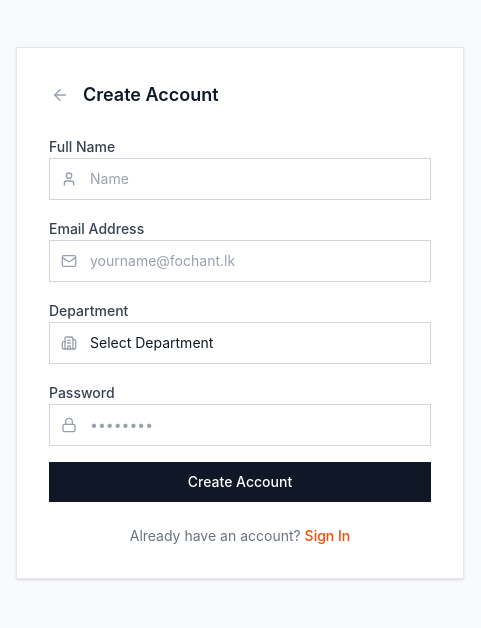
it: RegisterPage › validates organization email
In the field with placeholder "yourname@fochant.lk": (240, 261) [49, 240, 431, 282], type "test@gmail.com"
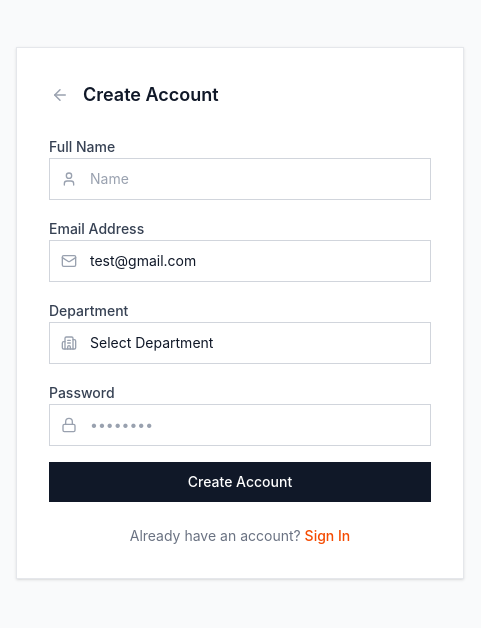
In the field with placeholder "Name": (240, 179) [49, 158, 431, 200], type "John Doe"
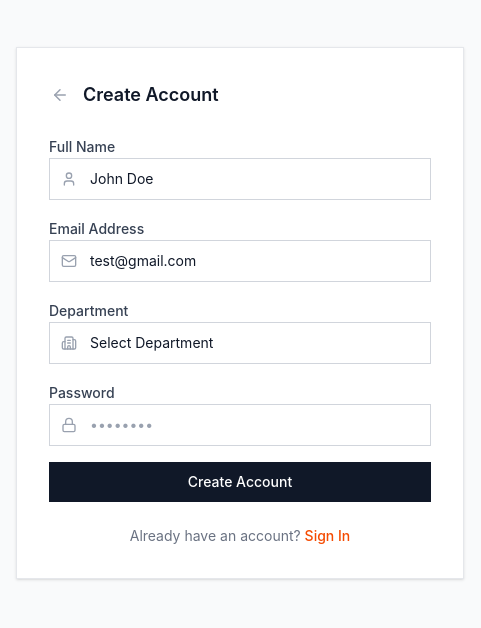
Select "Design" in the dropdown: (240, 343) [49, 322, 431, 364]
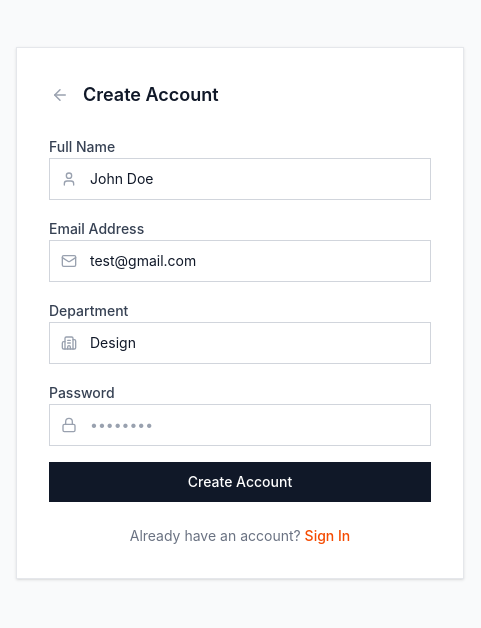
In the password field with placeholder "••••••••": (240, 425) [49, 404, 431, 446], type "password123"
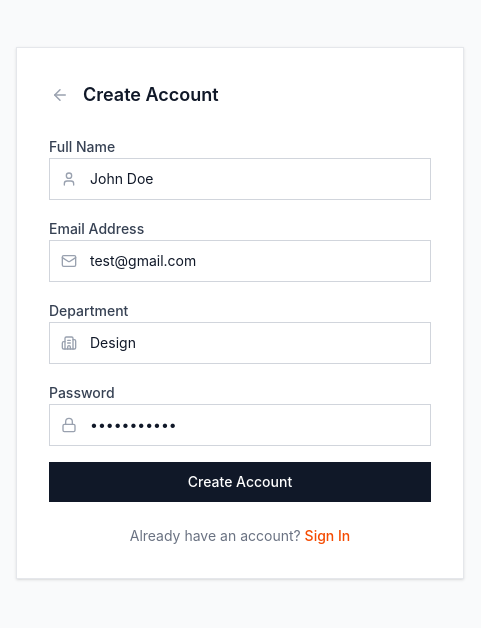
Click the button "Create Account": (240, 482) [49, 462, 431, 502]
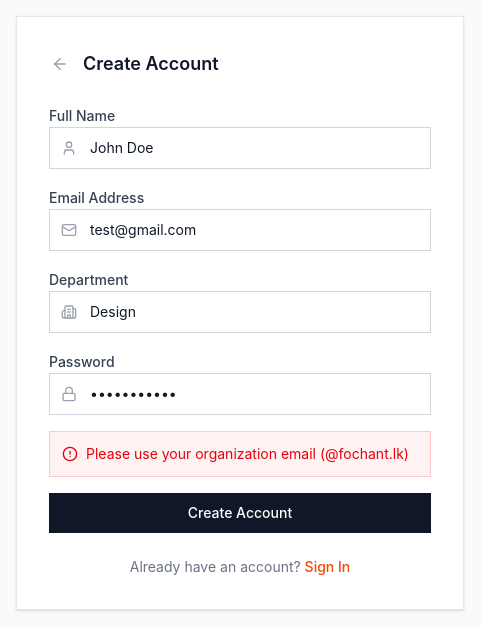
Expected: the text "Please use your organization email (@fochant.lk)" is shown, [86, 444, 409, 464]
